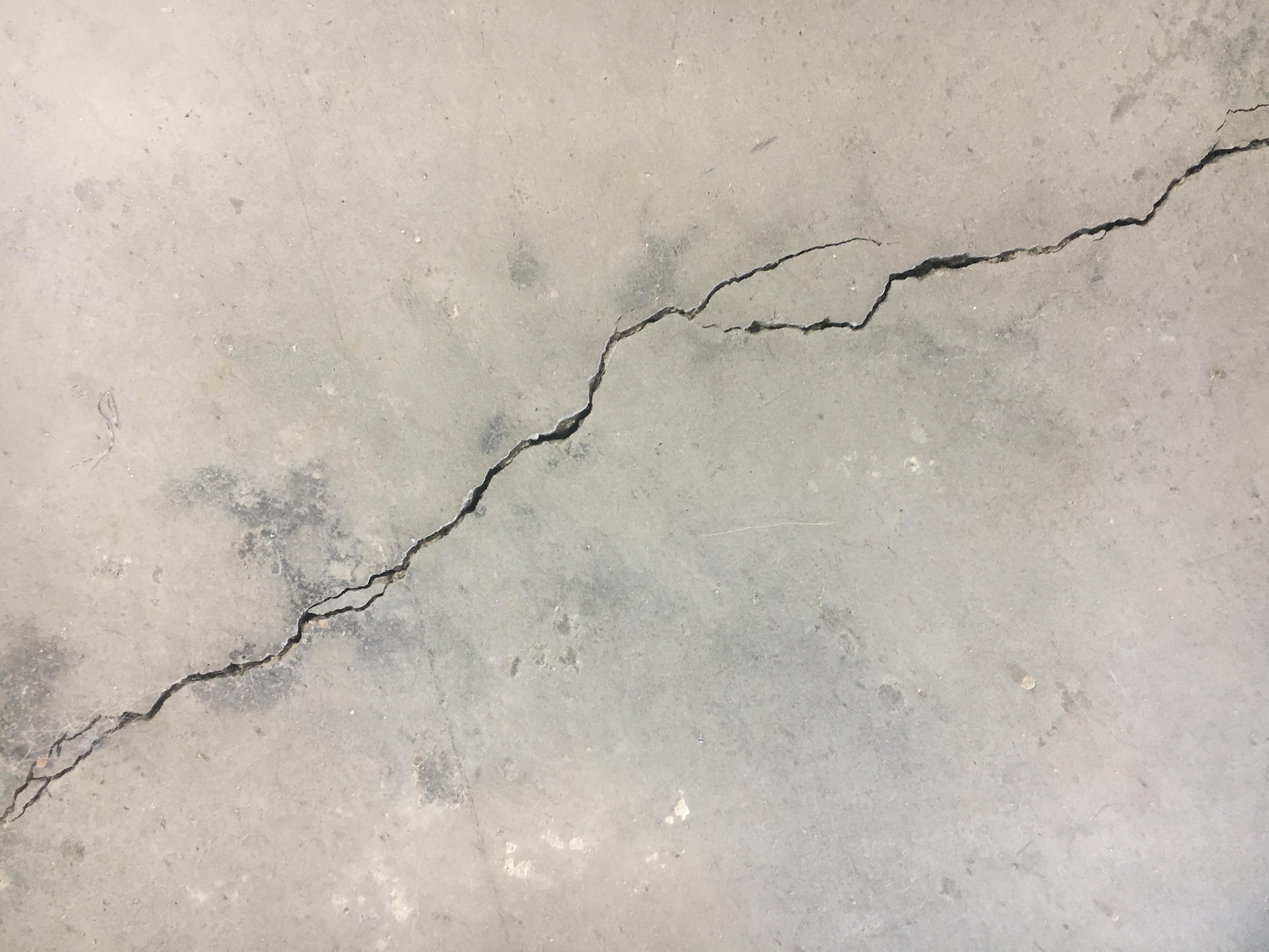Diagonal Crack: (4, 101, 1266, 827)
